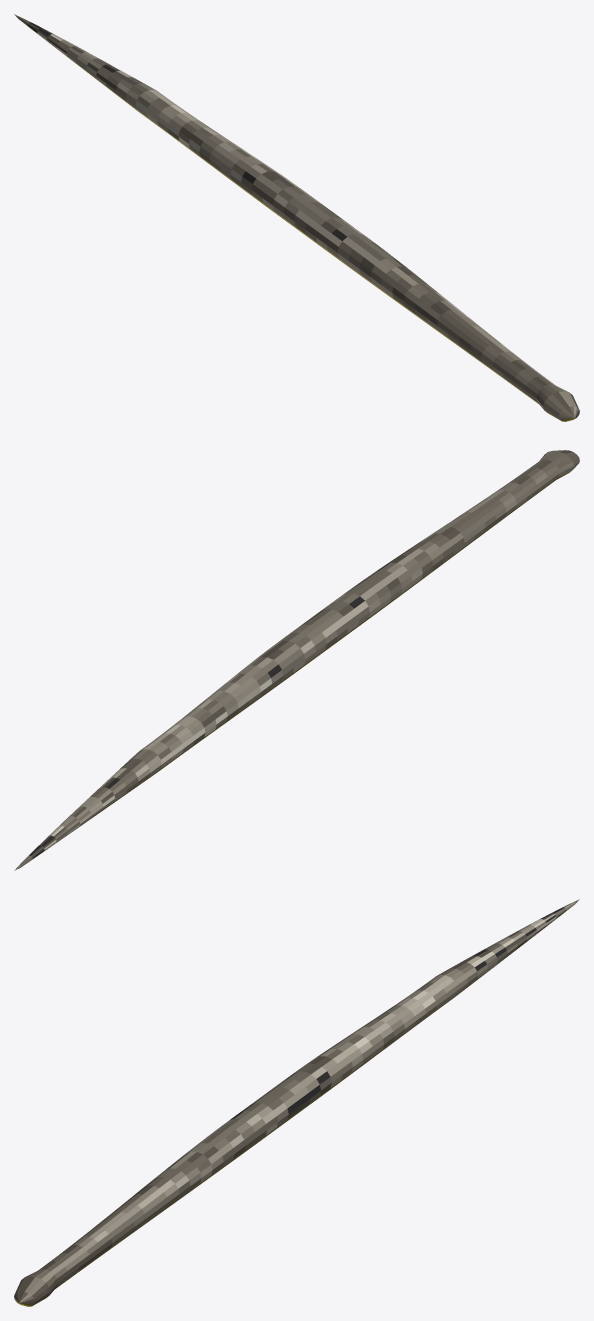
The model's file is thamnophis_elegans.glb.
3 renders of one model, top to bottom at view 1: azimuth 30°, elevation 25°; view 2: azimuth 150°, elevation 25°; view 3: azimuth 330°, elevation 25°, orthographic.
Parts seen in each view (by area): view 1: lod0; view 2: lod0; view 3: lod0.
Part boxes in pixels (x1=…): lod0: x1=14, y1=14, x2=579, y2=421; lod0: x1=14, y1=450, x2=579, y2=870; lod0: x1=14, y1=899, x2=579, y2=1306.
Size of what is drawn, in the model's own units: 0.0292 by 0.0256 by 0.8764.
